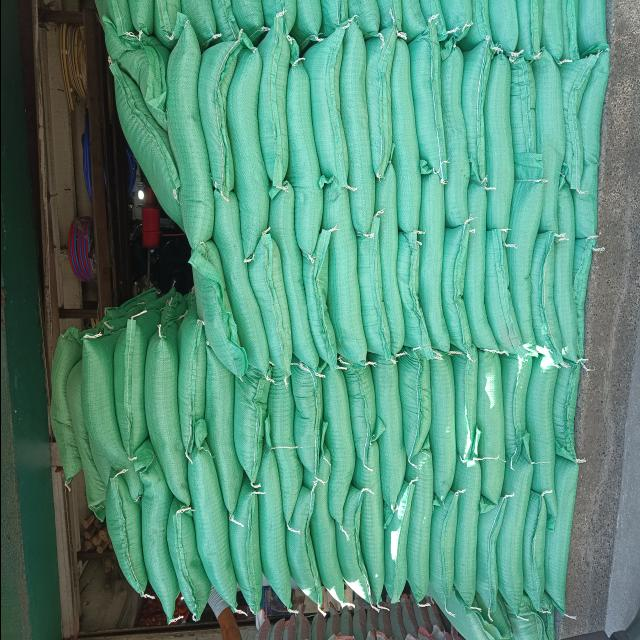Bistay sand: (170, 31, 212, 249), (170, 33, 204, 257), (338, 33, 374, 234), (144, 328, 180, 493), (189, 450, 227, 600), (326, 210, 362, 366), (437, 58, 467, 228), (64, 382, 102, 514), (235, 68, 265, 231), (217, 182, 246, 346), (258, 231, 287, 395), (134, 460, 166, 608), (179, 309, 209, 459), (206, 349, 236, 499), (201, 41, 231, 191), (168, 493, 202, 621), (377, 169, 400, 357), (394, 53, 417, 241), (423, 357, 455, 492), (463, 195, 489, 355), (280, 189, 303, 365), (292, 70, 315, 246), (87, 332, 114, 480), (419, 189, 445, 342), (466, 39, 491, 193), (483, 71, 508, 225), (514, 177, 536, 352), (539, 62, 561, 237), (327, 365, 351, 525), (405, 458, 431, 604), (270, 373, 296, 518), (261, 465, 287, 610), (364, 40, 395, 160), (115, 321, 143, 451), (359, 451, 385, 591), (315, 35, 337, 199), (528, 354, 552, 502), (579, 55, 598, 239), (303, 237, 331, 361), (464, 197, 487, 347), (454, 461, 478, 603), (54, 332, 77, 480), (262, 44, 288, 173), (232, 485, 260, 604), (238, 358, 266, 477), (193, 243, 221, 362), (559, 51, 583, 189), (385, 477, 411, 603), (378, 371, 404, 497), (399, 223, 425, 349), (109, 480, 139, 588), (444, 235, 472, 350), (512, 56, 537, 183), (290, 483, 314, 615), (311, 469, 335, 601), (400, 348, 430, 452), (418, 42, 442, 168), (487, 233, 511, 359), (535, 238, 559, 364), (433, 480, 458, 599), (455, 346, 479, 466), (481, 364, 505, 484), (337, 503, 367, 597), (348, 357, 374, 465), (552, 462, 572, 602), (445, 226, 467, 352), (119, 117, 171, 170), (502, 345, 526, 458), (572, 237, 594, 359), (555, 189, 571, 351), (525, 489, 545, 614), (363, 236, 384, 355), (505, 472, 524, 603), (480, 498, 499, 629), (123, 39, 165, 93), (430, 599, 484, 640), (505, 599, 559, 640), (555, 370, 579, 459), (301, 372, 319, 480), (99, 1, 133, 51), (578, 1, 606, 53), (233, 1, 266, 42), (211, 1, 243, 42), (265, 1, 297, 42), (562, 1, 582, 61), (467, 1, 491, 50), (493, 1, 517, 50), (518, 1, 542, 50), (541, 1, 565, 50), (152, 1, 182, 35), (181, 1, 211, 35), (445, 1, 473, 37), (294, 1, 320, 35), (324, 1, 350, 35), (351, 1, 377, 35), (381, 1, 403, 30), (402, 1, 424, 30), (423, 1, 444, 30)
